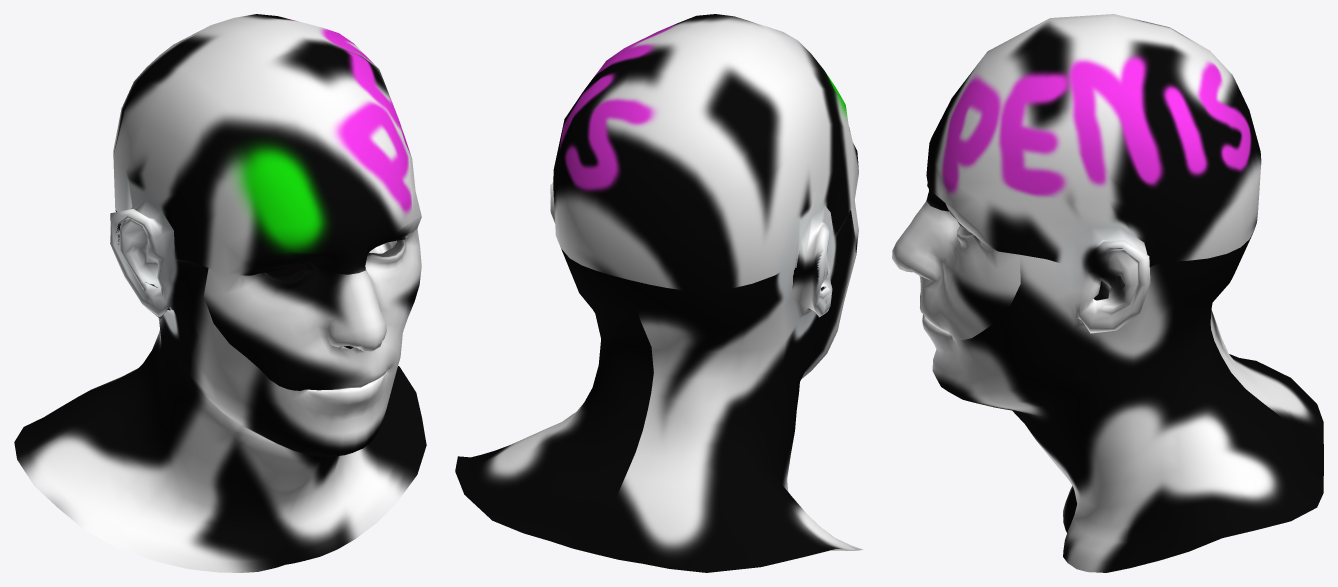
File: vr_head.gltf
3 renders of one model, left to right at view 1: azimuth 30°, elevation 25°; view 2: azimuth 150°, elevation 25°; view 3: azimuth 270°, elevation 25°, orthographic.
Visible parts, largest first — view 1: MaleHead; view 2: MaleHead; view 3: MaleHead.
Boxes of the visible parts, x1=… form: MaleHead: x1=14, y1=14, x2=426, y2=572; MaleHead: x1=455, y1=14, x2=863, y2=572; MaleHead: x1=892, y1=14, x2=1323, y2=572.
Bounding box in the file's own units: 3.87 × 5.06 × 3.85.
Materials: 1 (1 with a texture image).
